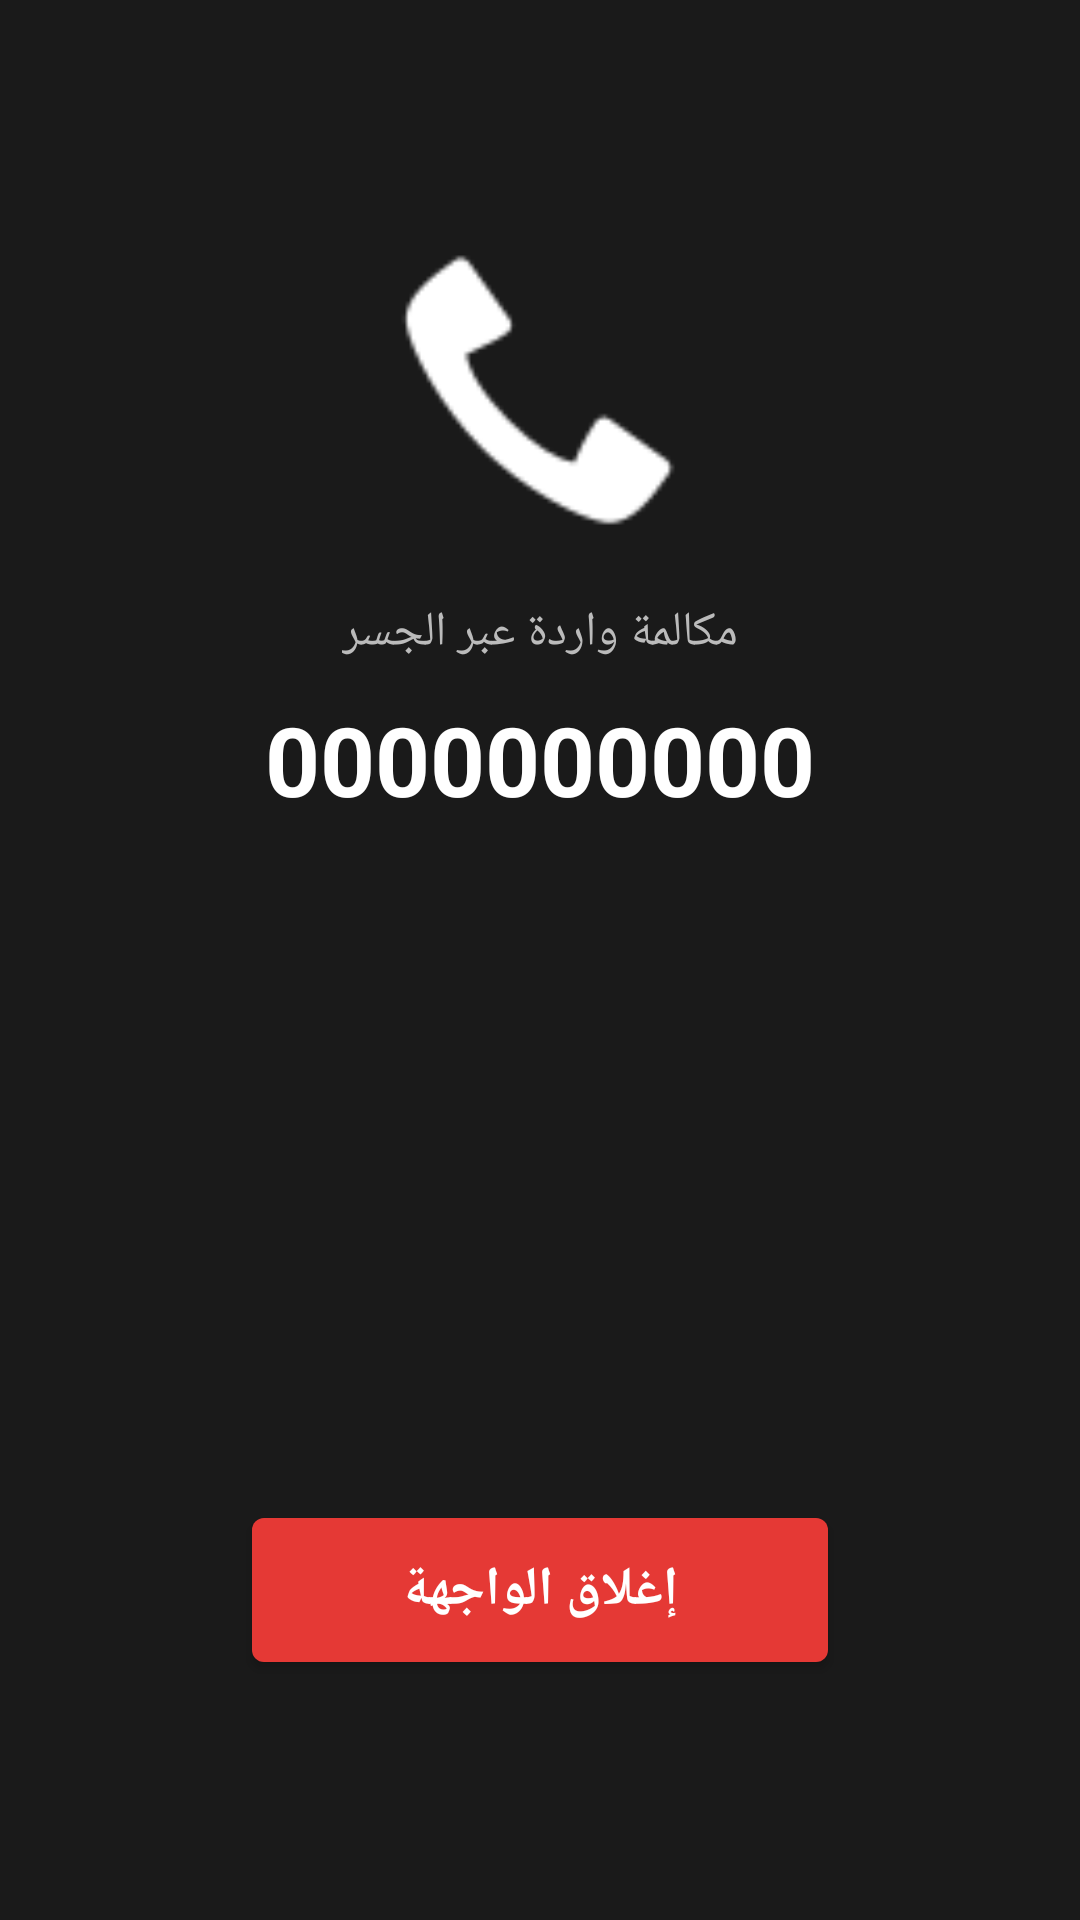

Icons on this 1080×1920 Android screen, each with its box as (x1, y1, x2, y2):
Call Icon: (405, 255, 674, 525)
